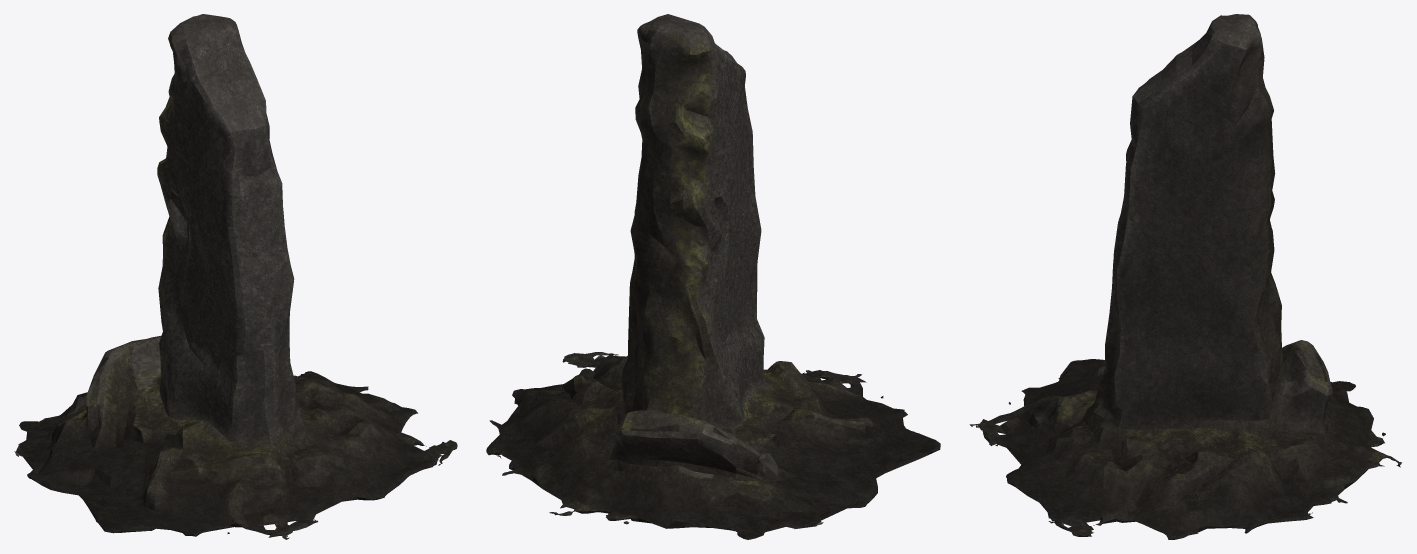
File: b3-stone-single.glb
3 views of the same model, side by side, from view 1: azimuth 30°, elevation 25°; view 2: azimuth 150°, elevation 25°; view 3: azimuth 270°, elevation 25° (orthographic). The views are drawn at different scales.
Size of the model in its own units: 1.67 by 1.84 by 1.68.
1 material, 1 textured.
